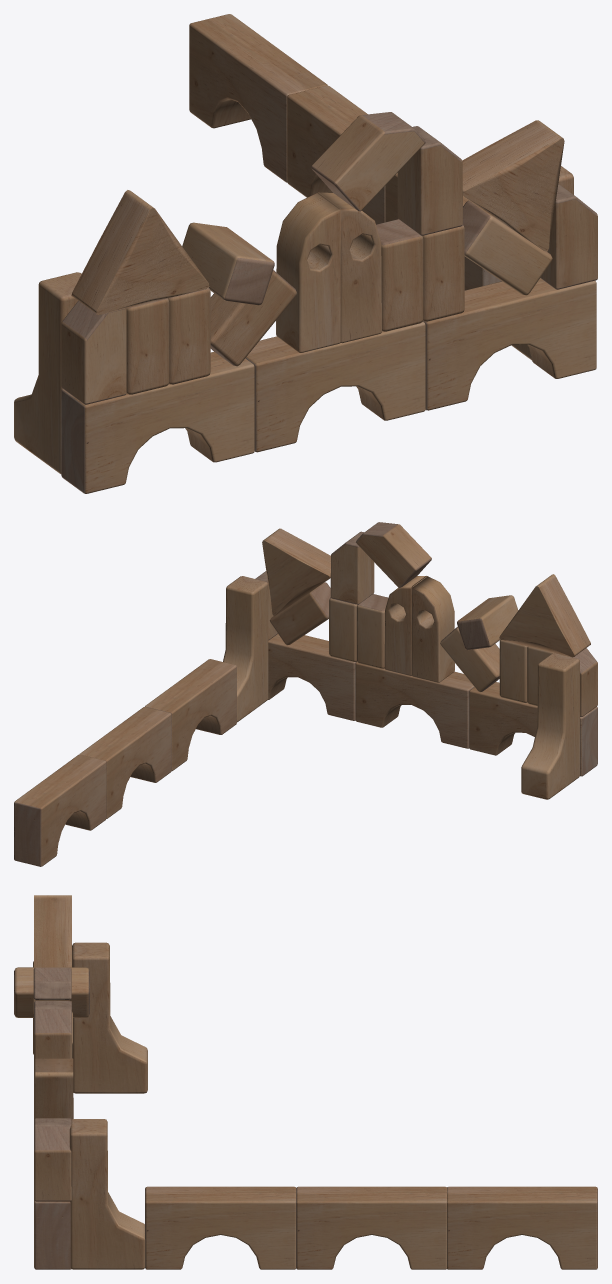
The picture shows the model from 3 angles, top to bottom: view 1: azimuth 30°, elevation 25°; view 2: azimuth 150°, elevation 25°; view 3: azimuth 270°, elevation 25°; orthographic projection. The views are drawn at different scales.
Visible parts, largest first — view 1: obj_arch_block2, obj_arch_block1, obj_arch_block, obj_arch_block5, pCube1, obj_hole_block2, pCube2, obj_slant_block3, obj_L_block1, obj_slant_block, obj_arch_block4, obj_hole_block1 (+10 smaller); view 2: obj_arch_block5, obj_L_block1, obj_arch_block, obj_arch_block3, obj_arch_block4, obj_L_block, obj_arch_block1, obj_arch_block2, pCube1, obj_hole_block2, pCube2, obj_slant_block3 (+10 smaller); view 3: obj_arch_block3, obj_arch_block5, obj_arch_block4, obj_L_block, obj_L_block1, obj_slant_block1, pCube1, obj_arch_block1, pCube2, obj_slant_block2, obj_bevel_block7, obj_slant_block3.
Boxes of the visible parts, left/top/right/bottom form: obj_arch_block2: left=61, top=352, right=254, bottom=493; obj_arch_block1: left=423, top=278, right=596, bottom=410; obj_arch_block: left=245, top=321, right=425, bottom=452; obj_arch_block5: left=189, top=14, right=327, bottom=182; pCube1: left=71, top=190, right=209, bottom=314; obj_hole_block2: left=276, top=192, right=340, bottom=352; pCube2: left=462, top=120, right=564, bottom=251; obj_slant_block3: left=311, top=112, right=425, bottom=211; obj_L_block1: left=14, top=272, right=81, bottom=473; obj_slant_block: left=61, top=301, right=126, bottom=404; obj_arch_block4: left=287, top=85, right=385, bottom=224; obj_hole_block1: left=317, top=192, right=381, bottom=343; obj_arch_block5: left=14, top=754, right=106, bottom=866; obj_L_block1: left=521, top=653, right=579, bottom=799; obj_arch_block: left=355, top=662, right=474, bottom=748; obj_arch_block3: left=145, top=659, right=236, bottom=771; obj_arch_block4: left=79, top=707, right=171, bottom=818; obj_L_block: left=223, top=576, right=268, bottom=722; obj_arch_block1: left=268, top=634, right=356, bottom=720; obj_arch_block2: left=469, top=682, right=597, bottom=776; pCube1: left=499, top=574, right=590, bottom=657; obj_hole_block2: left=411, top=576, right=454, bottom=682; pCube2: left=262, top=528, right=330, bottom=615; obj_slant_block3: left=356, top=522, right=431, bottom=587; obj_arch_block3: left=145, top=1186, right=296, bottom=1269; obj_arch_block5: left=447, top=1186, right=597, bottom=1269; obj_arch_block4: left=296, top=1186, right=446, bottom=1269; obj_L_block: left=69, top=1119, right=145, bottom=1269; obj_L_block1: left=72, top=942, right=147, bottom=1093; obj_slant_block1: left=34, top=1118, right=71, bottom=1201; pCube1: left=34, top=895, right=71, bottom=967; obj_arch_block1: left=34, top=1200, right=70, bottom=1269; pCube2: left=35, top=1058, right=73, bottom=1118; obj_slant_block2: left=34, top=1001, right=71, bottom=1083; obj_bevel_block7: left=14, top=967, right=89, bottom=1017; obj_slant_block3: left=33, top=967, right=71, bottom=1013.
Size of the model in its own units: 0.4209 by 0.2272 by 0.539.
Materials: 1 (1 with a texture image).
